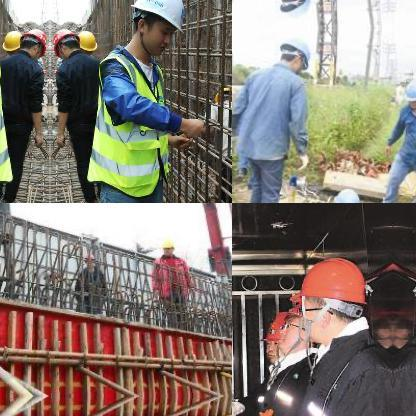Helmet: (291, 250, 371, 344), (124, 0, 189, 54), (272, 304, 316, 353), (255, 319, 291, 367), (274, 35, 312, 74), (48, 25, 78, 60), (18, 25, 48, 60), (274, 0, 312, 18), (0, 27, 23, 55), (74, 27, 96, 54), (331, 184, 362, 202), (210, 83, 231, 109), (400, 74, 415, 109), (158, 234, 176, 256)
